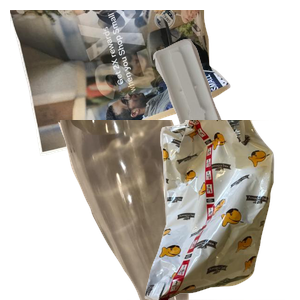glass: (56, 120, 241, 300)
paper: (10, 10, 233, 158)
plastic: (150, 36, 300, 173)
trash: (127, 120, 300, 300)
